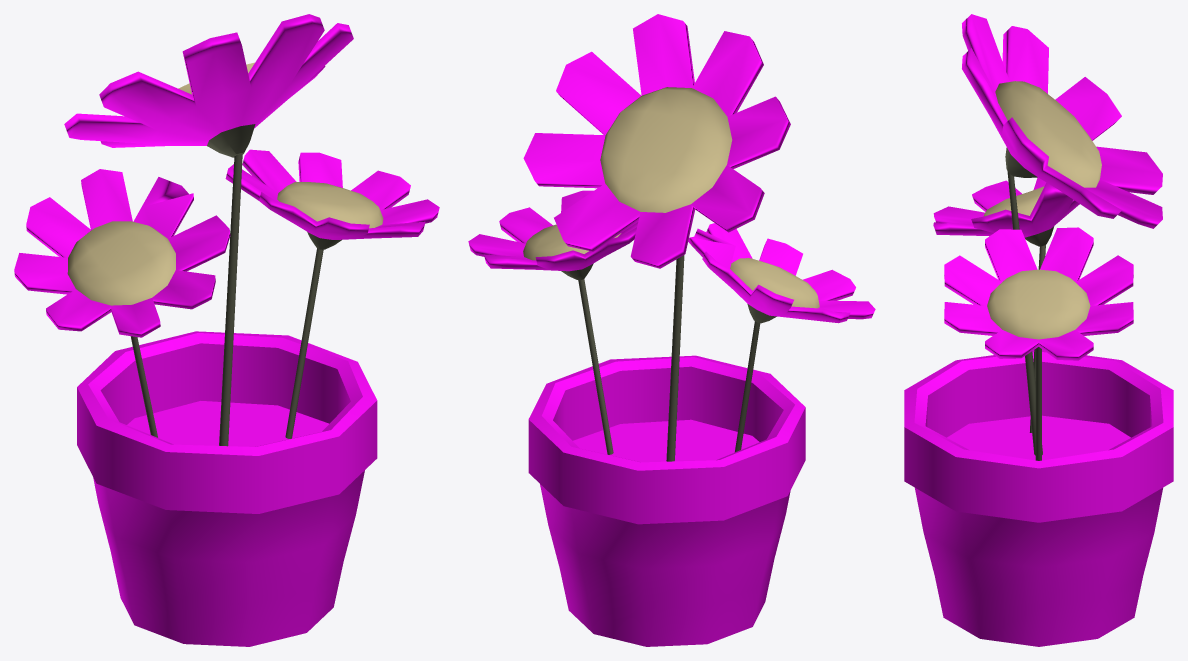
File: Flower.fbx
The picture shows the model from 3 angles, left to right: view 1: azimuth 30°, elevation 25°; view 2: azimuth 150°, elevation 25°; view 3: azimuth 270°, elevation 25°; orthographic projection. The views are drawn at different scales.
Parts seen in each view (by area): view 1: FlowerPot; view 2: FlowerPot; view 3: FlowerPot.
Part boxes in pixels (<box>): FlowerPot: <box>14,14,439,646</box>; FlowerPot: <box>468,14,875,646</box>; FlowerPot: <box>904,14,1173,646</box>.
Bounding box in the file's own units: 1.87 × 2.72 × 1.17.
